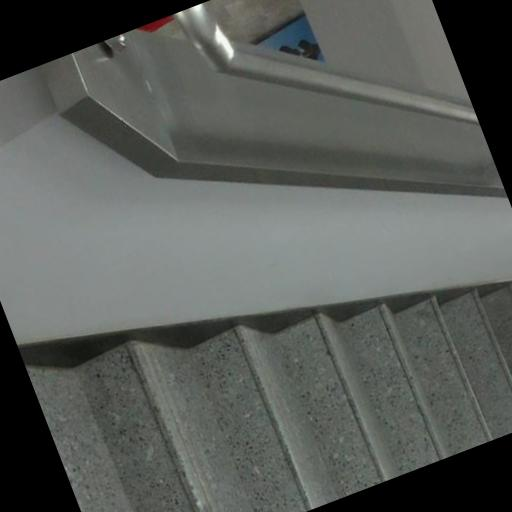stairs: (27, 287, 511, 511)
